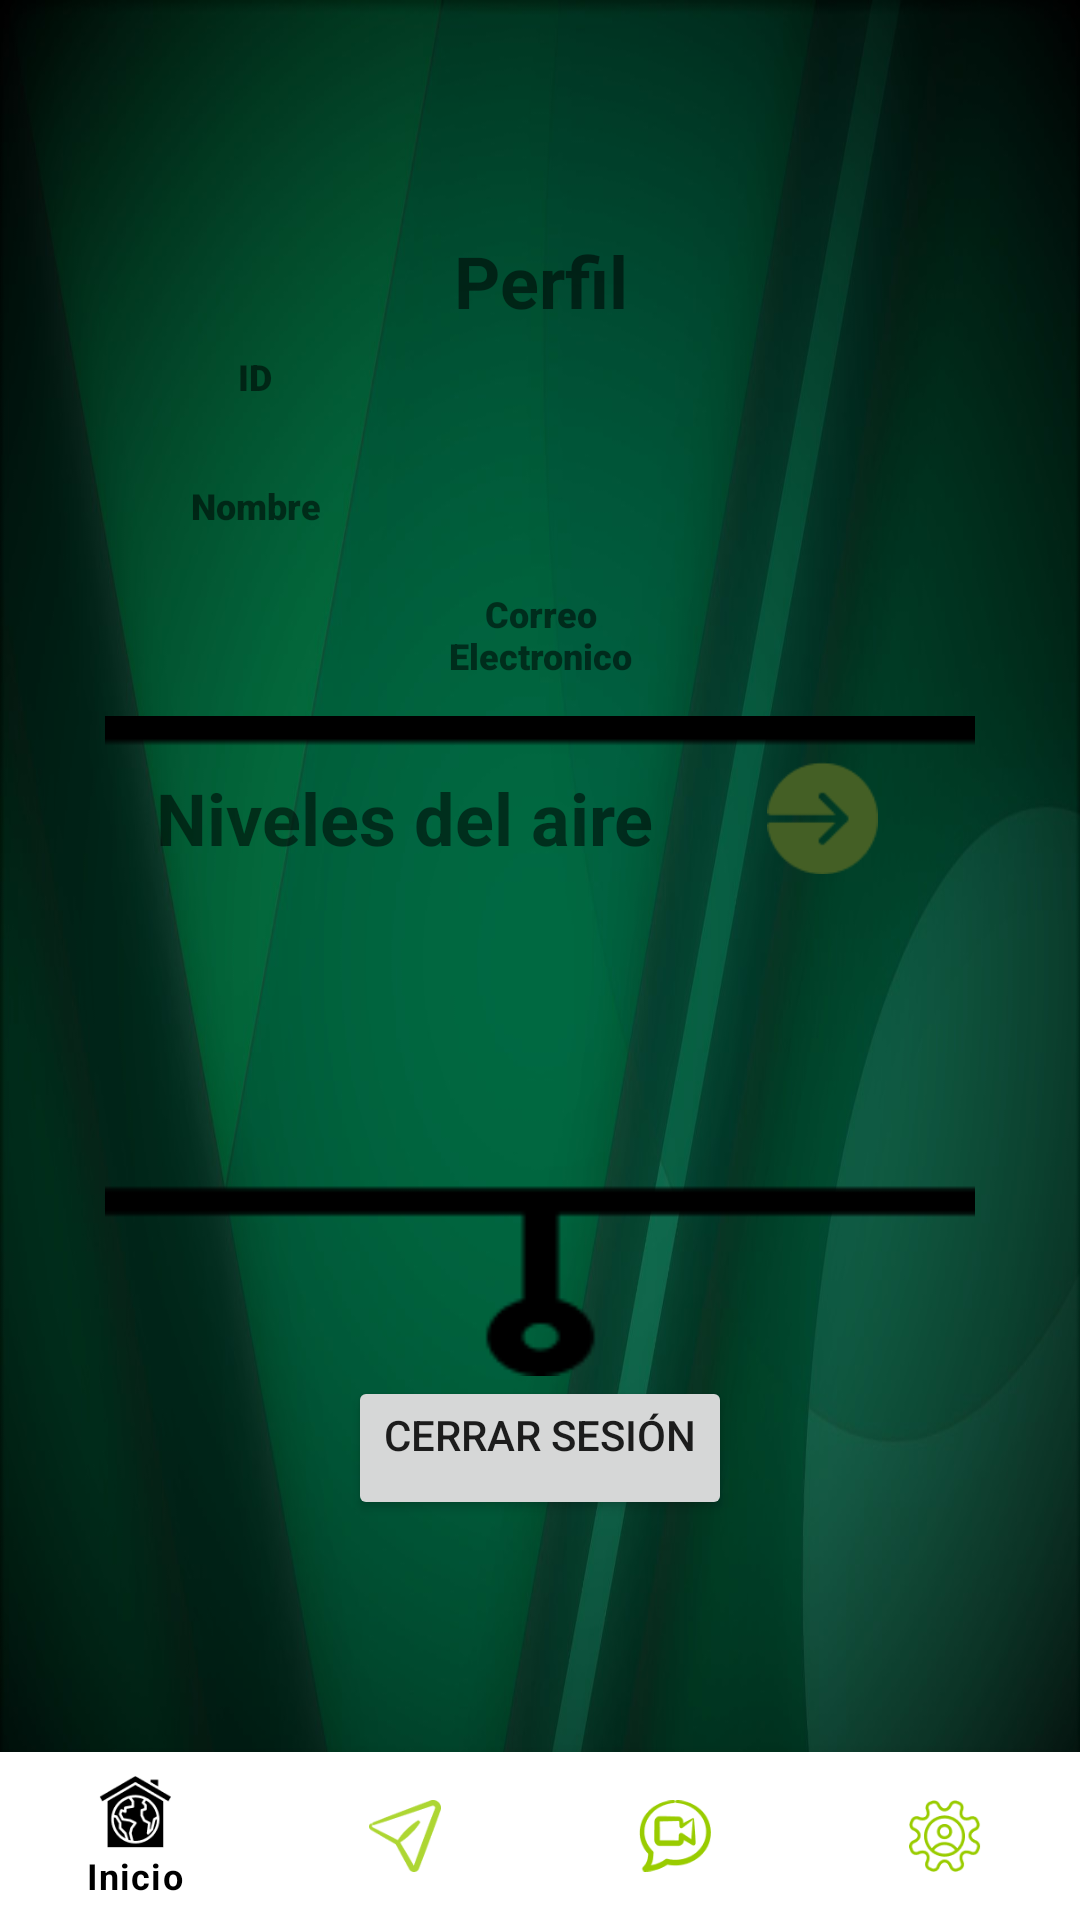

Icon click points for this 1080px x 1920px phone screenshot, format (x=x, y=y):
arrow: (x=819, y=810)
